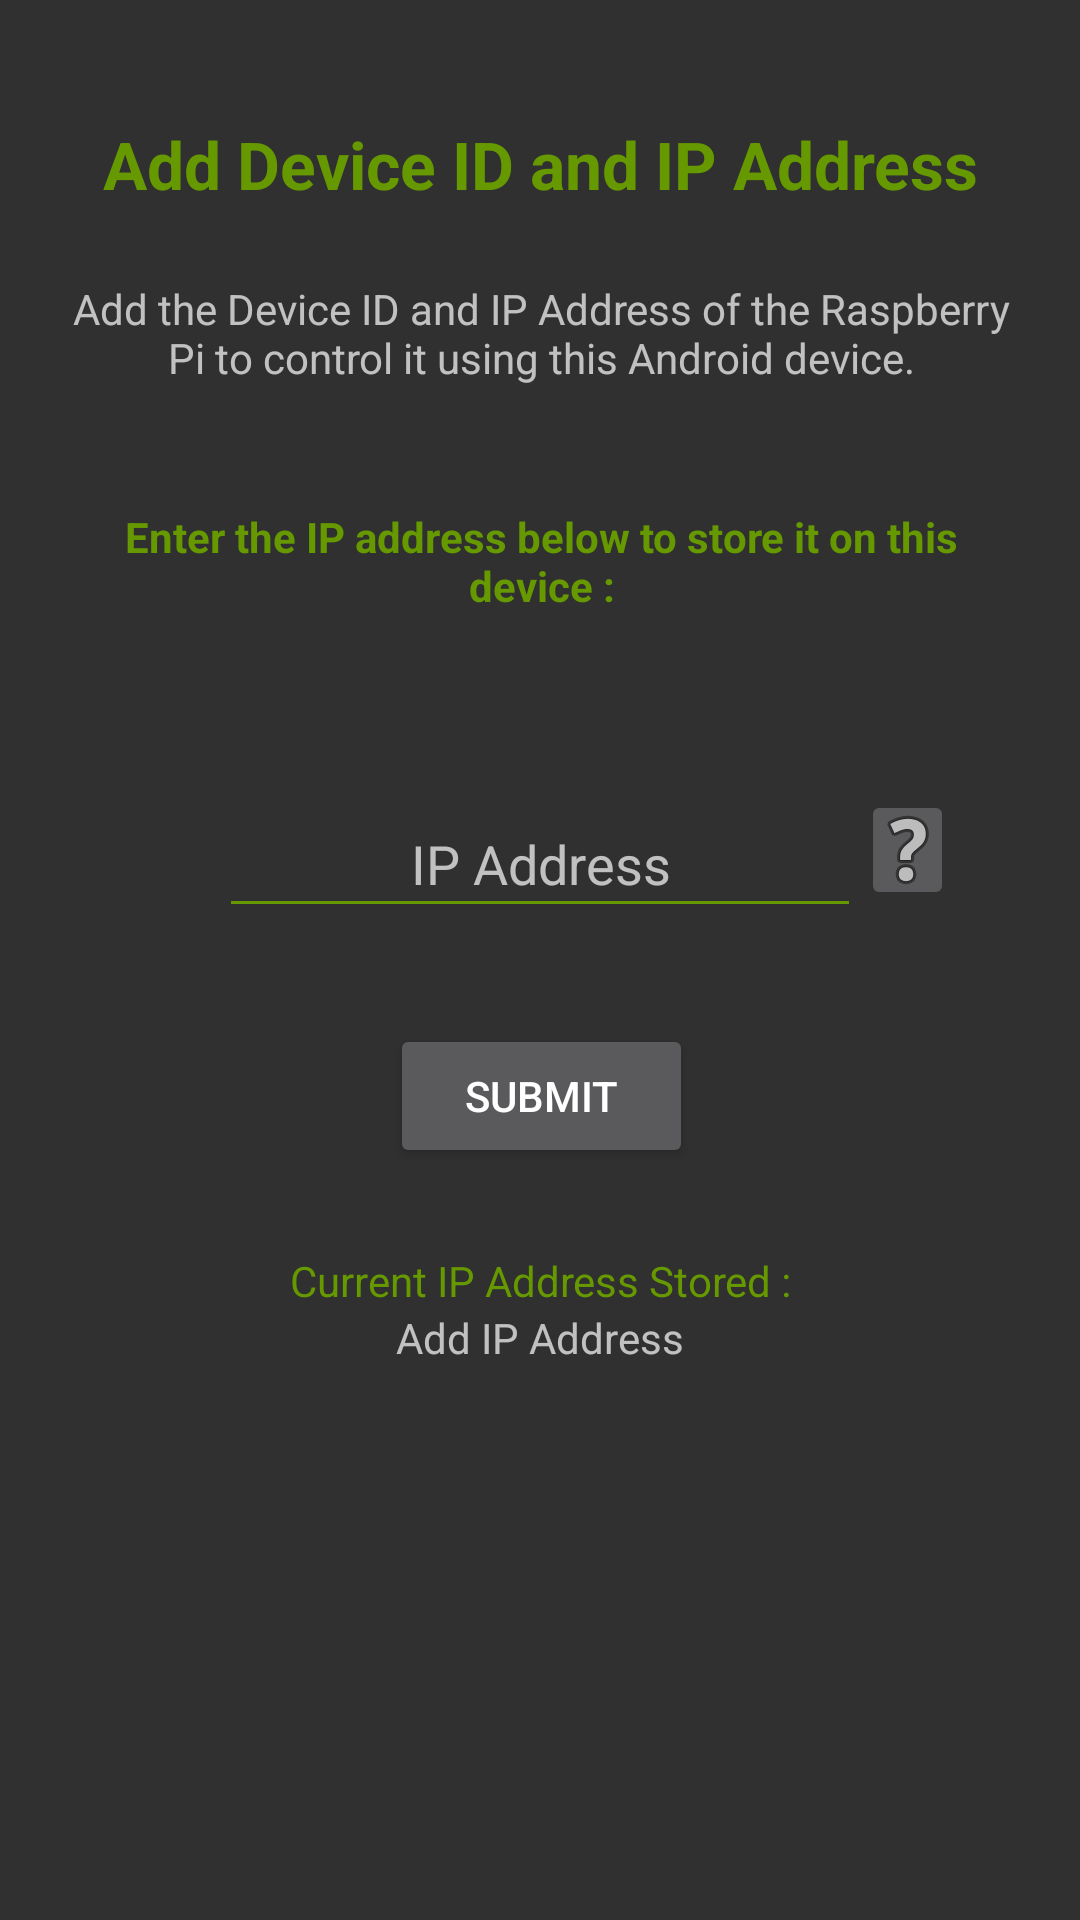

Point at icon controls on the screen. Image size 1080x1920, points as (x=x, y=y).
help: (x=907, y=850)
